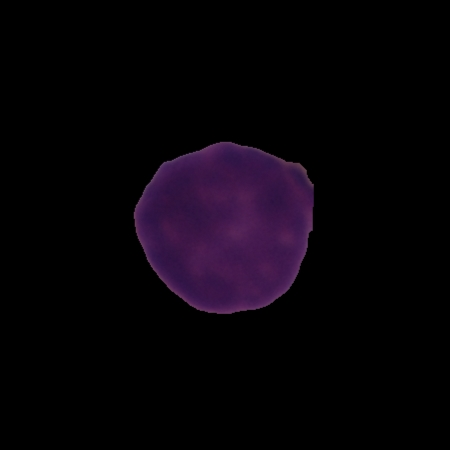HEM: (131, 137, 317, 317)
